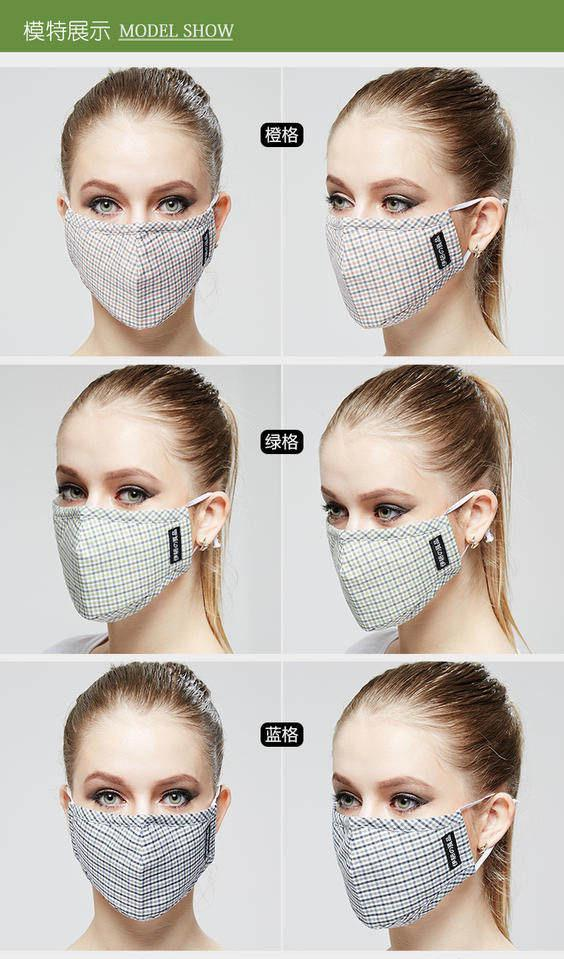OK: (49, 454, 218, 617), (57, 169, 219, 331), (328, 768, 486, 925), (317, 474, 472, 623), (71, 761, 219, 915), (329, 169, 471, 321)
